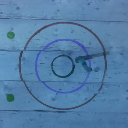Axe Tip: (82, 56, 93, 58)
